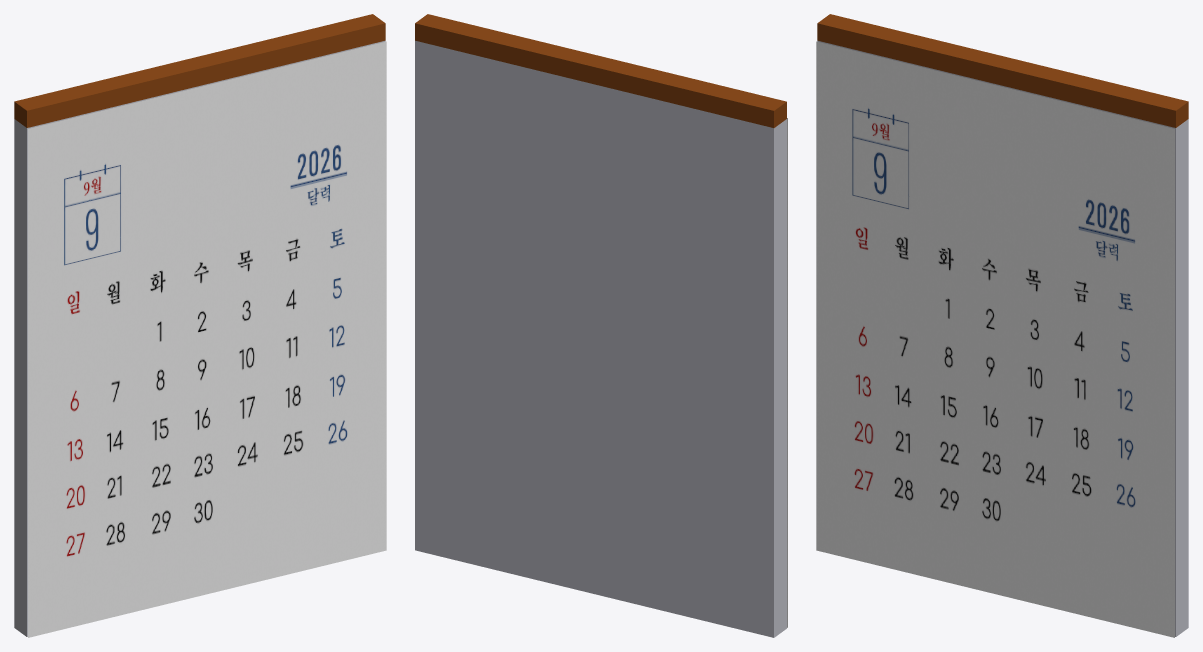
File: Chalinder4fbx.fbx
3 renders of one model, left to right at view 1: azimuth 30°, elevation 25°; view 2: azimuth 150°, elevation 25°; view 3: azimuth 330°, elevation 25°, orthographic.
Parts seen in each view (by area): view 1: Cube.028; view 2: Cube.028; view 3: Cube.028.
Boxes of the visible parts, x1,y1,x2,y2 form: Cube.028: [14, 14, 386, 637]; Cube.028: [415, 14, 787, 637]; Cube.028: [816, 14, 1188, 637].
Size of the model in its own units: 46.61 by 65.37 by 3.11.
3 materials, 1 textured.
